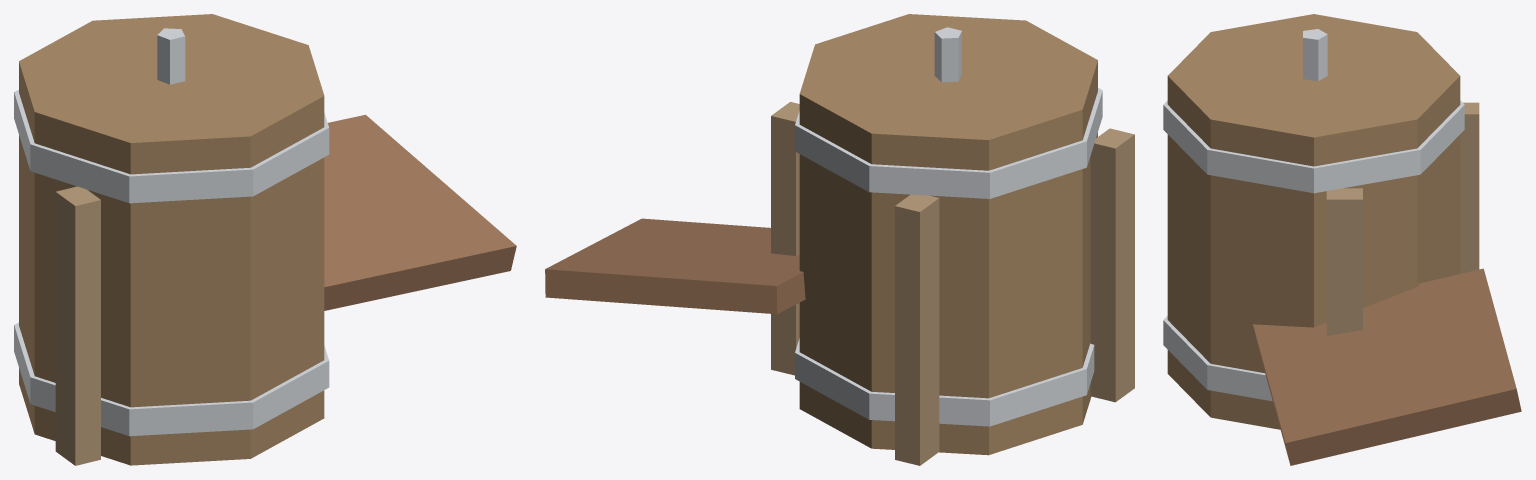
The model's file is barrel_open.glb.
3 renders of one model, left to right at view 1: azimuth 30°, elevation 25°; view 2: azimuth 150°, elevation 25°; view 3: azimuth 270°, elevation 25°, orthographic. The views are drawn at different scales.
Parts seen in each view (by area): view 1: body, lid, stave_2, hoop_1, hoop_0, handle; view 2: body, lid, stave_1, stave_2, hoop_1, hoop_0, stave_0, handle; view 3: body, lid, hoop_1, stave_0, stave_1, hoop_0, handle.
Part boxes in pixels (x1,y1,x2,y2): body: [19, 14, 324, 465]; lid: [324, 114, 516, 310]; stave_2: [55, 186, 100, 465]; hoop_1: [14, 89, 329, 203]; hoop_0: [14, 322, 329, 436]; handle: [157, 28, 185, 84]; body: [799, 14, 1097, 455]; lid: [545, 218, 805, 314]; stave_1: [895, 194, 939, 465]; stave_2: [1090, 128, 1134, 402]; hoop_1: [795, 88, 1102, 198]; hoop_0: [795, 338, 1094, 426]; stave_0: [771, 102, 799, 375]; handle: [934, 27, 961, 82]; body: [1167, 14, 1460, 429]; lid: [1253, 268, 1521, 465]; hoop_1: [1163, 100, 1464, 193]; stave_0: [1326, 188, 1362, 335]; stave_1: [1460, 102, 1479, 273]; hoop_0: [1163, 316, 1272, 401]; handle: [1303, 29, 1327, 81].
Size of the model in its own units: 1.11 by 0.82 by 0.7846.
